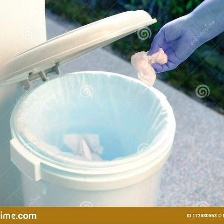tissue: (125, 43, 175, 91), (57, 127, 107, 165)
